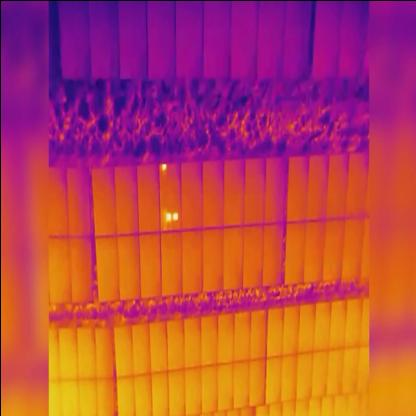hotspot: (172, 211, 178, 221), (161, 162, 166, 172), (165, 212, 170, 222)
